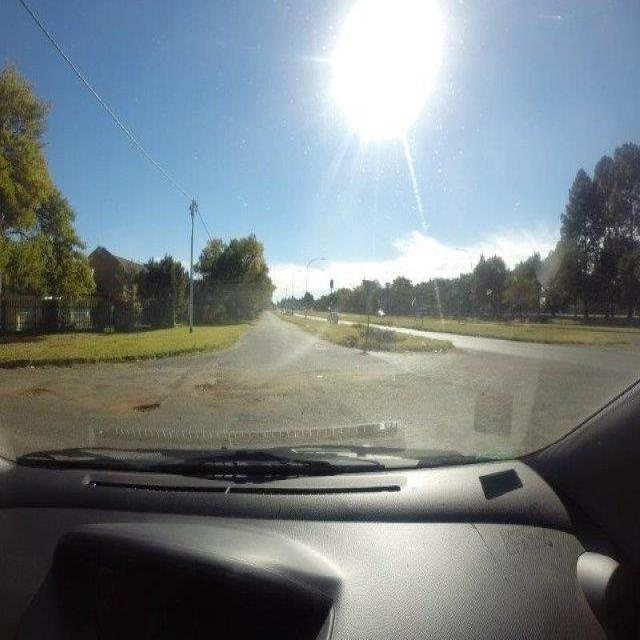lubang: (126, 396, 165, 416), (189, 383, 224, 396)
